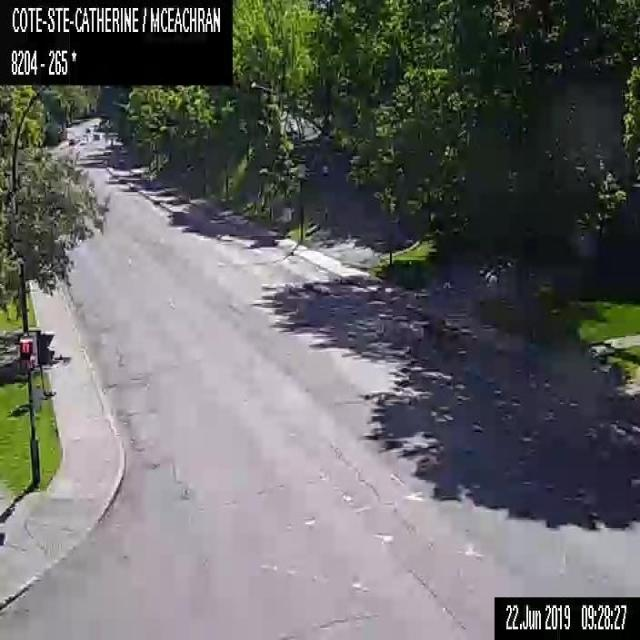vehicle: (82, 132, 89, 140), (79, 136, 86, 144), (68, 137, 75, 144), (92, 132, 100, 138)
